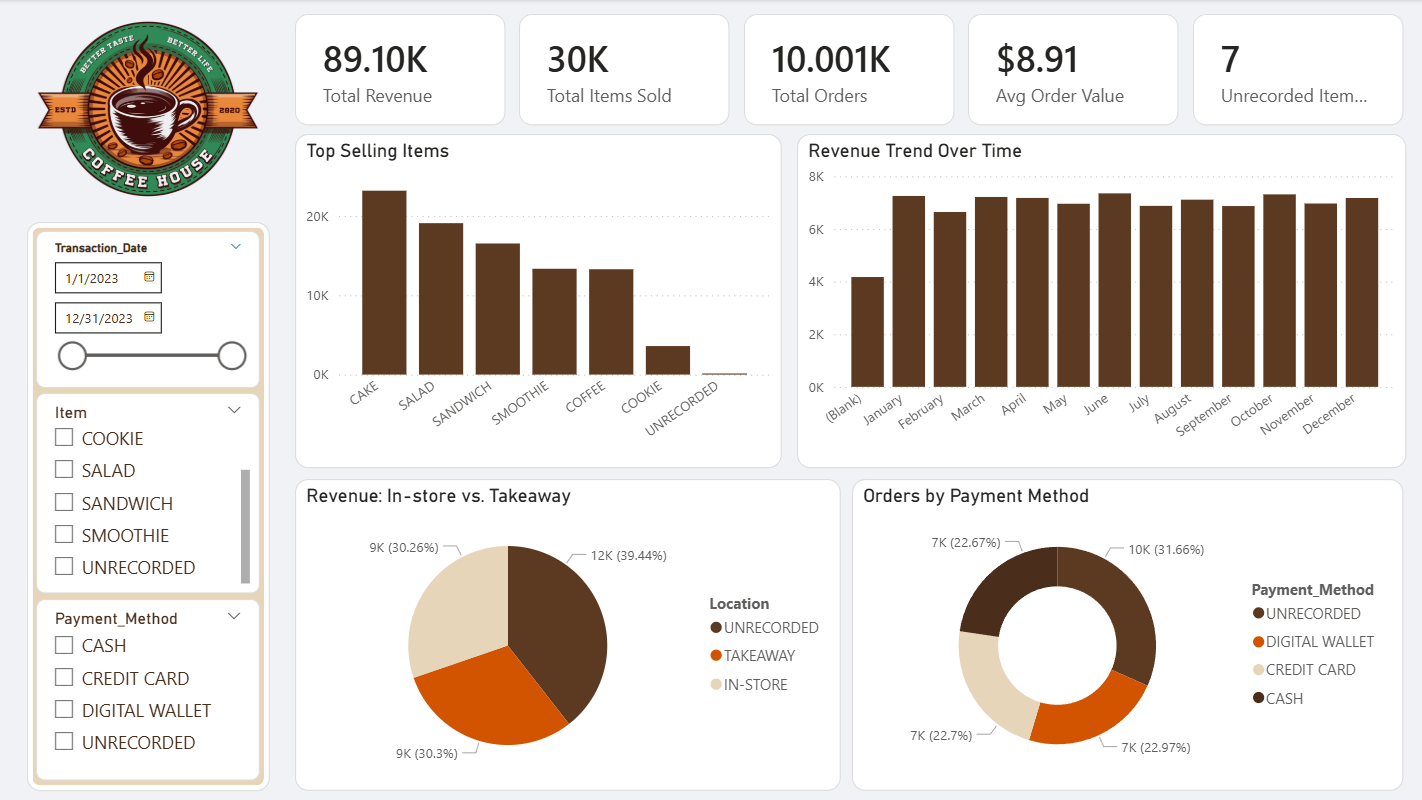

The page's visual inventory and layout, read from the dashboard file:
{"tool":"powerbi","page":{"name":"Page 1","canvas":[1280,720],"ordinal":0},"visuals":[{"type":"columnChart","title":"Top Selling Items","fields":{"Category":["cafe_data_clean.Item"],"Y":["Sum(cafe_data_clean.Total_Spent)"]},"box":[267.5,121.2,437,300],"z":0},{"type":"donutChart","title":"Orders by Payment Method","fields":{"Category":["cafe_data_clean.Payment_Method"],"Y":["Sum(cafe_data_clean.Quantity)"]},"box":[767.6,430.9,494.7,280.1],"z":1000},{"type":"pieChart","title":"Revenue: In-store vs. Takeaway","fields":{"Category":["cafe_data_clean.Location"],"Y":["Sum(cafe_data_clean.Quantity)"]},"box":[267.5,430.9,490,280],"z":2000},{"type":"clusteredColumnChart","title":"Revenue Trend Over Time","fields":{"Y":["Sum(cafe_data_clean.Total_Spent)"],"Category":["cafe_data_clean.Transaction_Date.Variation.Date Hierarchy.Month","cafe_data_clean.Transaction_Date.Variation.Date Hierarchy.Day"]},"box":[718.4,120.9,547,300],"z":3000},{"type":"cardVisual","fields":{"Data":["Sum(cafe_data_clean.Total_Spent)"]},"box":[267.5,13.5,188.5,99.7],"z":4000},{"type":"image","box":[31,20,207.8,157.9],"z":5000},{"type":"shape","box":[27,199.8,217.8,510.6],"z":6000},{"type":"slicer","fields":{"Values":["cafe_data_clean.Transaction_Date"]},"box":[35,207.8,200.8,140.9],"z":7000},{"type":"slicer","fields":{"Values":["cafe_data_clean.Item"]},"box":[35,353.7,201.1,180],"z":8000},{"type":"slicer","fields":{"Values":["cafe_data_clean.Payment_Method"]},"box":[35,538.6,200.8,162.9],"z":9000},{"type":"cardVisual","fields":{"Data":["Sum(cafe_data_clean.Quantity)"]},"box":[469.1,13.5,188.5,99.7],"z":10000},{"type":"cardVisual","fields":{"Data":["Count(cafe_data_clean.Transaction_ID)"]},"box":[670.6,13.5,188.5,99.7],"z":11000},{"type":"cardVisual","fields":{"Data":["cafe_data_clean.Avg Order Value"]},"box":[872.2,13.5,188.5,99.7],"z":12000},{"type":"cardVisual","fields":{"Data":["cafe_data_clean.Unrecorded Items Count"]},"box":[1073.7,13.5,188.5,99.7],"z":13000}]}

Visuals, with their boxes in screenshot pixels (x1, y1, x2, y2), scaled from the page's 1280x720 canvas onto the 1422x800 screenshot:
"Top Selling Items" columnChart: locate(297, 135, 783, 468)
"Orders by Payment Method" donutChart: locate(853, 479, 1402, 790)
"Revenue: In-store vs. Takeaway" pieChart: locate(297, 479, 842, 790)
"Revenue Trend Over Time" clusteredColumnChart: locate(798, 134, 1406, 468)
cardVisual - Sum(cafe_data_clean.Total_Spent): locate(297, 15, 507, 126)
image: locate(34, 22, 265, 198)
shape: locate(30, 222, 272, 789)
slicer - cafe_data_clean.Transaction_Date: locate(39, 231, 262, 387)
slicer - cafe_data_clean.Item: locate(39, 393, 262, 593)
slicer - cafe_data_clean.Payment_Method: locate(39, 598, 262, 779)
cardVisual - Sum(cafe_data_clean.Quantity): locate(521, 15, 731, 126)
cardVisual - Count(cafe_data_clean.Transaction_ID): locate(745, 15, 954, 126)
cardVisual - cafe_data_clean.Avg Order Value: locate(969, 15, 1178, 126)
cardVisual - cafe_data_clean.Unrecorded Items Count: locate(1193, 15, 1402, 126)
